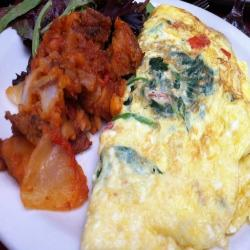omelette: (103, 11, 243, 250)
salad: (7, 1, 151, 35)
